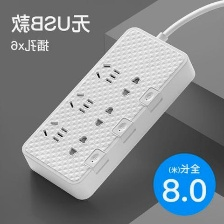three_eye_plug: (19, 21, 197, 203)
